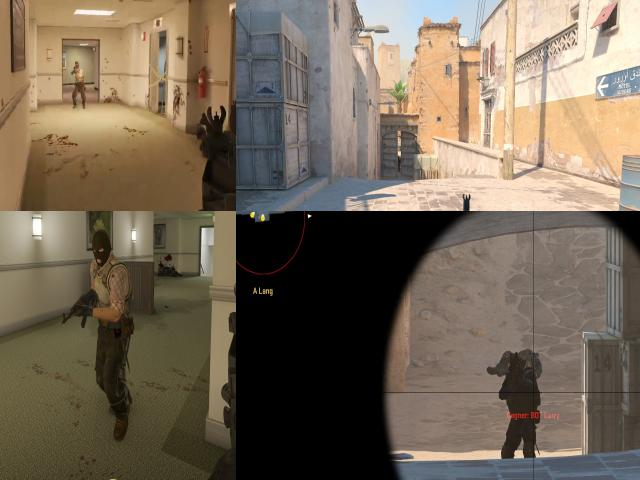CT: (501, 358, 538, 456), (398, 155, 401, 172)
CT-Head: (510, 356, 522, 376), (398, 155, 398, 157)
Dead: (494, 348, 544, 374), (158, 264, 185, 278)
T: (80, 223, 141, 419), (70, 55, 86, 102)
T-Head: (86, 223, 122, 276), (72, 58, 82, 72)
